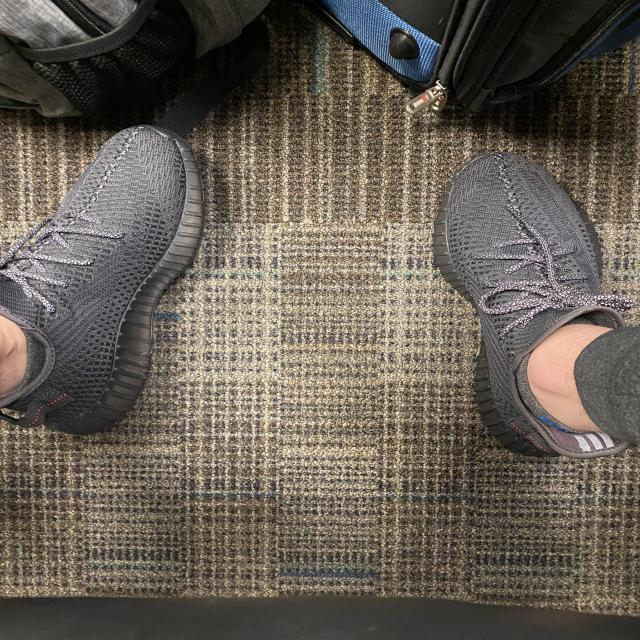shoes: (2, 123, 208, 436), (432, 147, 630, 463)
